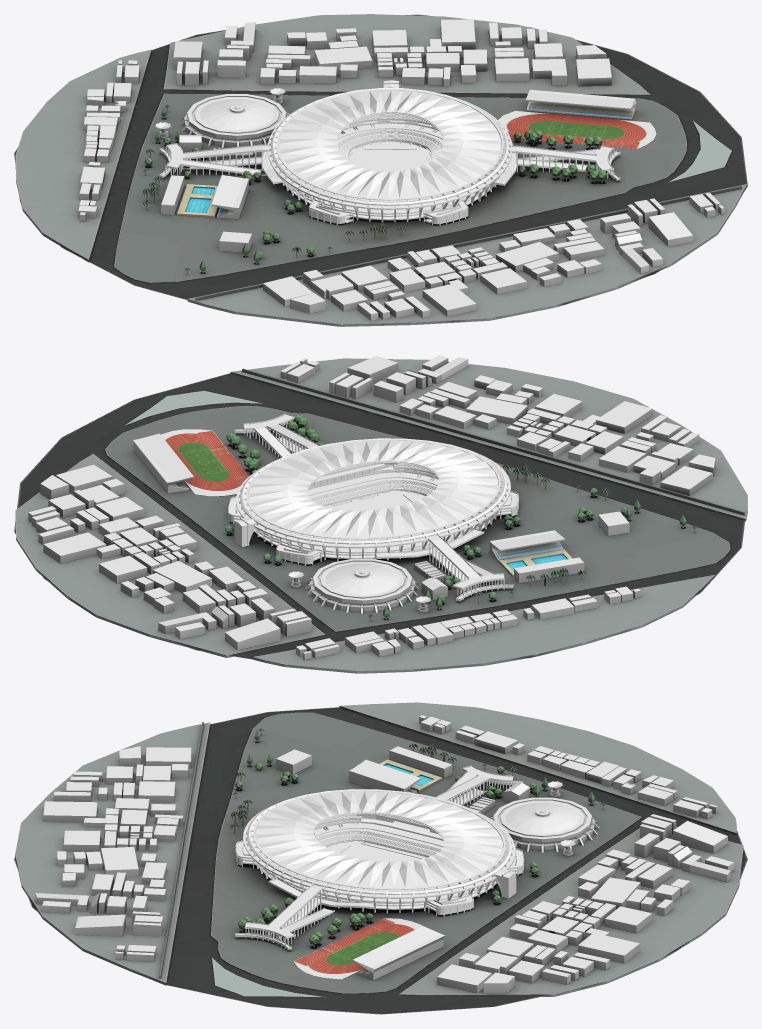
File: maracana.glb
3 views of the same model, one above another, from view 1: azimuth 30°, elevation 25°; view 2: azimuth 150°, elevation 25°; view 3: azimuth 270°, elevation 25° (orthographic).
Visible parts, largest first — view 1: chao, surfaceShader17, maraca; view 2: chao, surfaceShader17, maraca; view 3: chao, surfaceShader17, maraca.
Part boxes in pixels (bbox=[...]): chao: bbox=[14, 14, 747, 326]; surfaceShader17: bbox=[78, 19, 724, 320]; maraca: bbox=[267, 88, 512, 222]; chao: bbox=[14, 358, 747, 673]; surfaceShader17: bbox=[28, 355, 715, 659]; maraca: bbox=[236, 438, 510, 561]; chao: bbox=[14, 702, 747, 1014]; surfaceShader17: bbox=[35, 715, 734, 993]; maraca: bbox=[243, 789, 515, 913].
Bounding box in the file's own units: 9.5 × 0.5365 × 9.5.
Materials: 3 (3 with a texture image).
